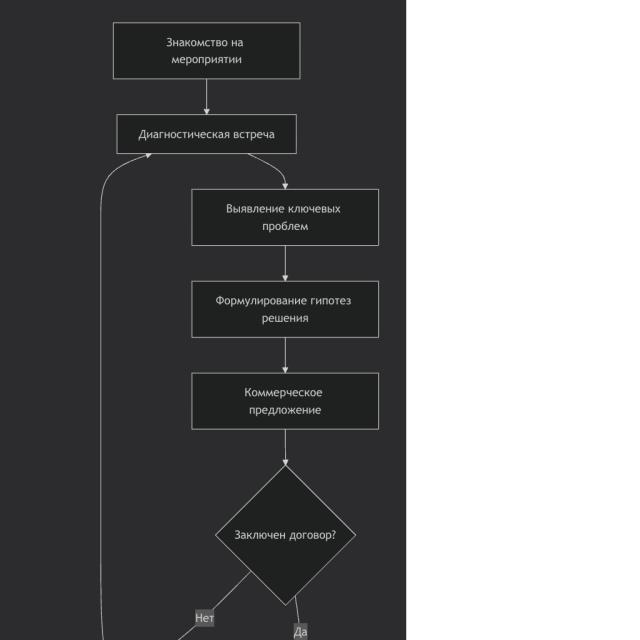arrow: (58, 150, 151, 639), (248, 147, 292, 190), (282, 337, 288, 373), (283, 246, 288, 281), (204, 79, 209, 114), (283, 429, 288, 464)
diamond: (215, 465, 357, 604)
rectangle: (192, 189, 379, 246), (113, 23, 300, 79), (192, 373, 379, 429), (192, 281, 378, 337), (117, 114, 296, 154)
text_region: (196, 609, 215, 627), (294, 622, 308, 640)
